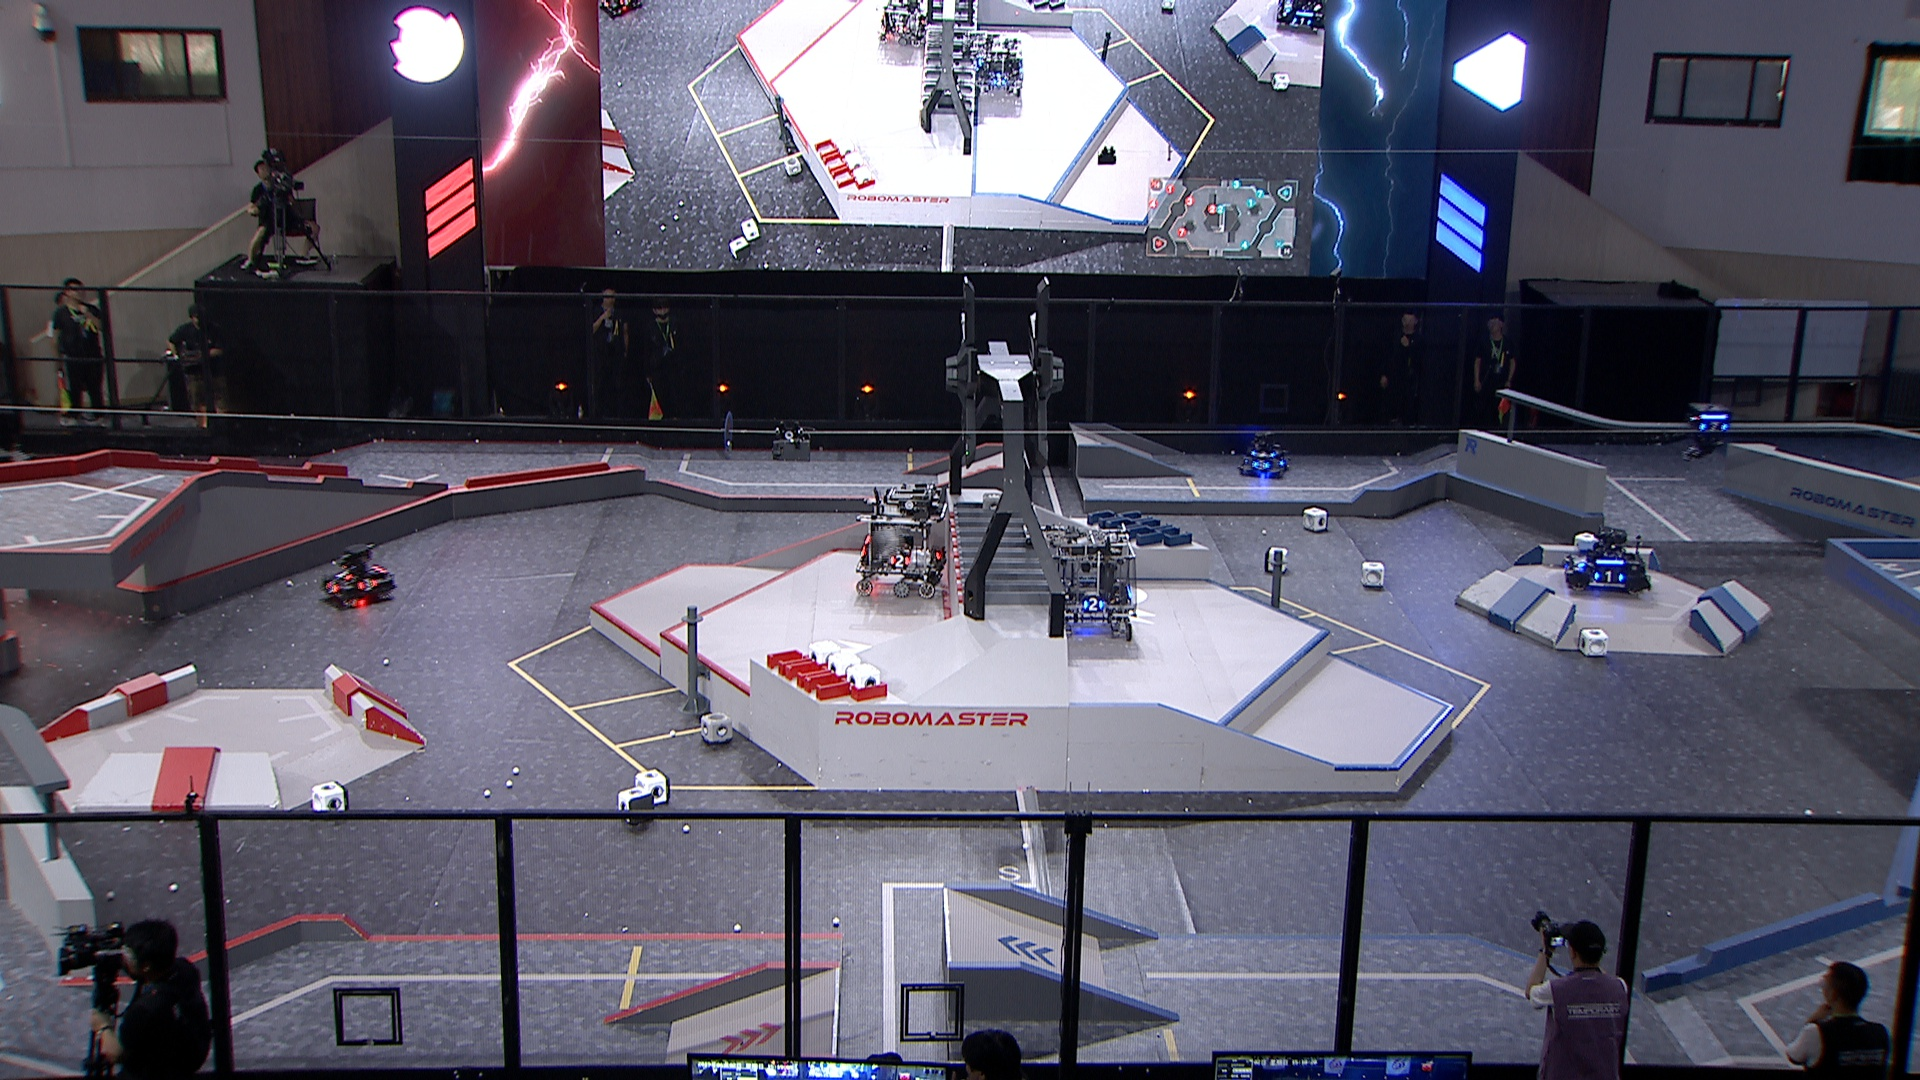armor: (1593, 567, 1627, 585), (1698, 419, 1727, 433), (889, 553, 913, 568), (1081, 595, 1102, 611), (1250, 458, 1273, 472), (356, 576, 380, 589), (324, 579, 340, 595), (334, 570, 356, 580), (1571, 553, 1586, 567), (1249, 450, 1276, 458)
car: (1036, 520, 1143, 644), (855, 483, 955, 599), (1557, 522, 1655, 595), (316, 542, 396, 607), (1237, 429, 1292, 479)
ignore: (969, 32, 1026, 100), (877, 0, 930, 50)
watcher: (1680, 400, 1735, 460)
